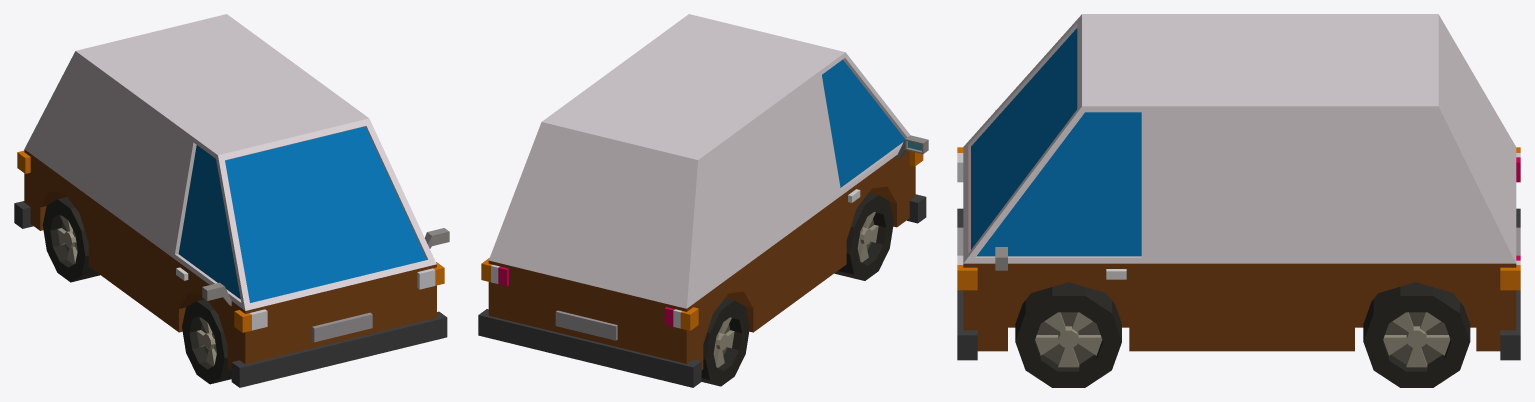
Rendered from car_4.fbx.
The picture shows the model from 3 angles, left to right: view 1: azimuth 30°, elevation 25°; view 2: azimuth 150°, elevation 25°; view 3: azimuth 270°, elevation 25°; orthographic projection. The views are drawn at different scales.
Parts seen in each view (by area): view 1: car_4; view 2: car_4; view 3: car_4.
Part boxes in pixels (x1,y1,x2,y2): car_4: [14, 14, 449, 387]; car_4: [478, 14, 928, 387]; car_4: [957, 14, 1520, 387].
Size of the model in its own units: 253 by 215 by 408.
